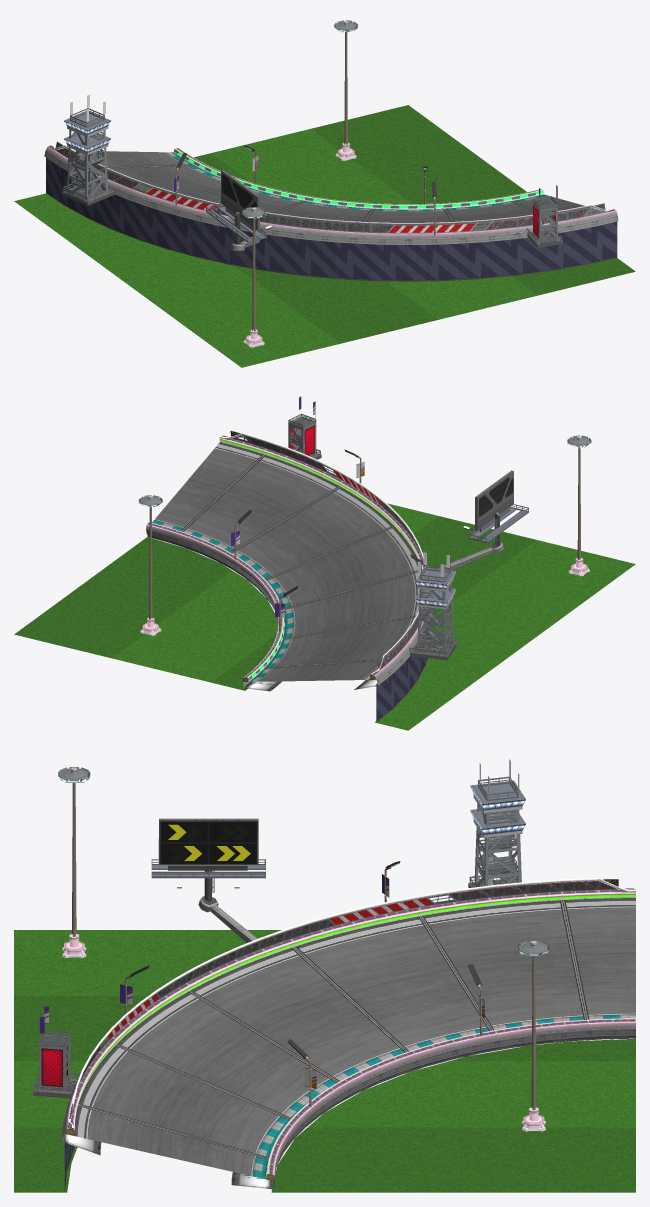
Rendered from T10 - Ground.fbx.
3 renders of one model, top to bottom at view 1: azimuth 30°, elevation 25°; view 2: azimuth 150°, elevation 25°; view 3: azimuth 270°, elevation 25°, orthographic. The views are drawn at different scales.
Visible parts, largest first — view 1: standard_ground_grass1, wall_retaining, standard_road, standard_arrow_right, wall_drift8, standard_bridge13, pro_stewards_tower, prop_billboard_right, pro_camera_tower_attached, tower_attachment_slanted, pro_floodlight_overhead_1, pro_floodlight_overhead (+1 smaller); view 2: standard_ground_grass1, standard_road, wall_drift8, pro_stewards_tower, standard_arrow_right, prop_billboard_right, wall_retaining, banking_middle_lines, standard_bridge13, pro_camera_tower_attached, tower_attachment_slanted, pro_floodlight_overhead (+2 smaller); view 3: standard_road, standard_ground_grass1, wall_drift8, standard_arrow_right, prop_billboard_right, pro_stewards_tower, banking_middle_lines, standard_bridge13, pro_camera_tower_attached, wall_retaining, pro_floodlight_overhead_1, pro_floodlight_overhead (+2 smaller).
Part boxes in pixels (x1,y1,x2,y2): standard_ground_grass1: (14,105,635,367); wall_retaining: (46,157,617,281); standard_road: (71,150,604,228); standard_arrow_right: (49,141,614,233); wall_drift8: (46,146,617,238); standard_bridge13: (44,150,618,244); pro_stewards_tower: (64,94,111,200); prop_billboard_right: (206,170,272,244); pro_camera_tower_attached: (533,196,557,241); tower_attachment_slanted: (62,175,115,205); pro_floodlight_overhead_1: (242,207,266,331); pro_floodlight_overhead: (334,20,358,144); standard_ground_grass1: (14,503,635,730); standard_road: (152,442,421,681); wall_drift8: (146,435,428,681); pro_stewards_tower: (415,552,456,655); standard_arrow_right: (219,430,425,675); prop_billboard_right: (463,470,528,546); wall_retaining: (147,535,431,722); banking_middle_lines: (184,460,411,668); standard_bridge13: (146,529,432,691); pro_camera_tower_attached: (288,413,316,455); tower_attachment_slanted: (409,634,457,660); pro_floodlight_overhead: (138,495,162,619); standard_road: (73,898,635,1179); standard_ground_grass1: (14,930,635,1192); wall_drift8: (64,888,635,1181); standard_arrow_right: (68,878,635,1129); prop_billboard_right: (151,818,265,901); pro_stewards_tower: (470,759,526,888); banking_middle_lines: (92,909,588,1155); standard_bridge13: (61,1029,635,1189); pro_camera_tower_attached: (39,1029,70,1090); wall_retaining: (64,1035,635,1191); pro_floodlight_overhead_1: (58,767,90,936); pro_floodlight_overhead: (518,940,549,1110).
Size of the model in its own units: 12800 by 4184 by 12800.
